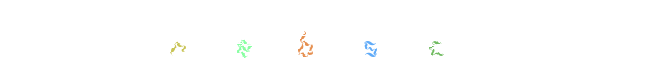B: (276, 0, 356, 80)
C: (330, 0, 410, 80)
E: (261, 0, 341, 80)
R: (224, 0, 304, 80)
S: (287, 0, 367, 80)
